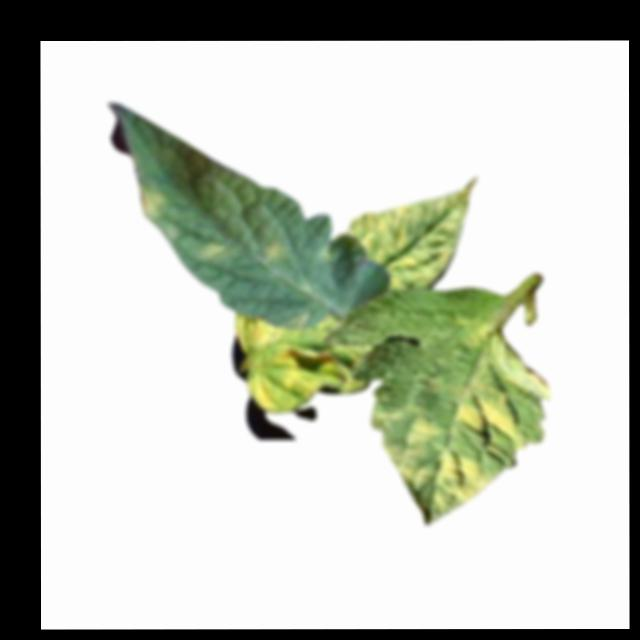Leaf_Mold: (367, 332, 552, 526), (344, 176, 476, 289), (245, 347, 345, 414), (230, 311, 280, 353), (135, 185, 172, 221), (191, 238, 234, 267), (257, 238, 287, 267)
